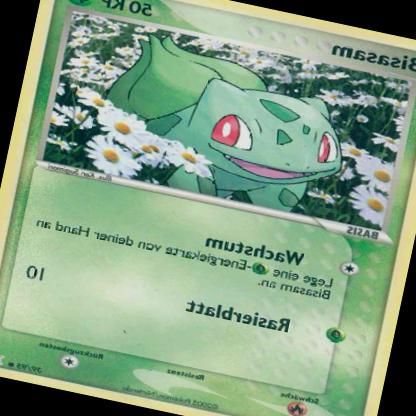Bulbasaur: (91, 23, 366, 220)
